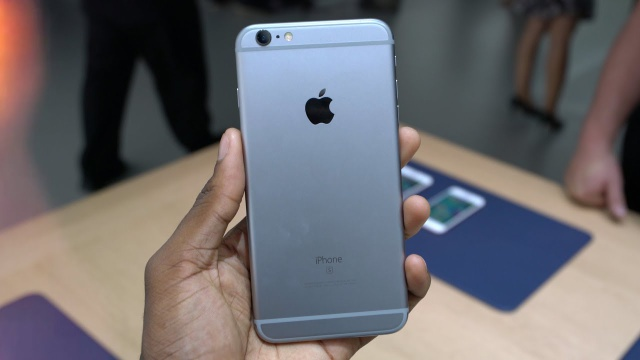apple: (298, 76, 347, 146)
